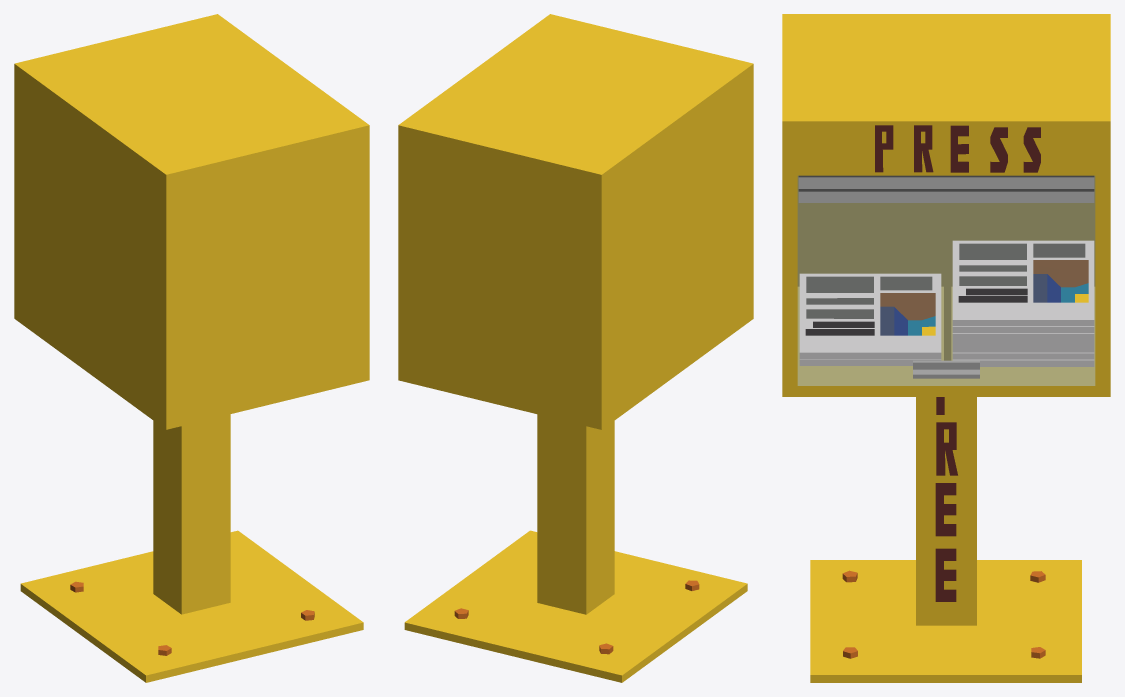
Rendered from SM_press_box_2.gltf.
3 views of the same model, side by side, from view 1: azimuth 30°, elevation 25°; view 2: azimuth 150°, elevation 25°; view 3: azimuth 270°, elevation 25° (orthographic). The views are drawn at different scales.
Parts seen in each view (by area): view 1: SM_press_box_2; view 2: SM_press_box_2; view 3: SM_press_box_2.
Boxes of the visible parts, x1,y1,x2,y2 form: SM_press_box_2: [14, 14, 369, 682]; SM_press_box_2: [398, 14, 753, 682]; SM_press_box_2: [782, 14, 1110, 682].
Size of the model in its own units: 0.6236 by 1.41 by 0.7545.
1 material, 1 textured.
